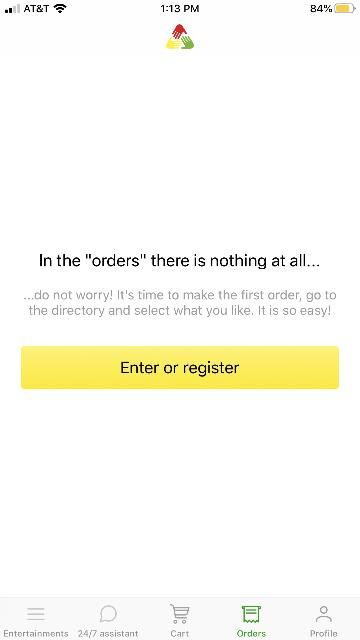Bottom_Navigation: (0, 598, 360, 640)
Icon: (170, 604, 190, 624), (241, 606, 260, 622), (316, 606, 332, 622), (100, 606, 116, 622), (28, 608, 44, 620)
Image: (166, 25, 194, 49)
Text: (24, 289, 336, 317), (40, 254, 318, 270), (122, 362, 238, 376), (78, 630, 138, 638), (4, 630, 68, 636), (237, 630, 265, 636), (311, 630, 337, 636), (171, 630, 189, 636)
TextButton: (21, 346, 339, 388)
TextImageButton: (78, 605, 138, 637), (4, 608, 68, 636), (237, 606, 265, 636), (311, 606, 337, 636), (170, 604, 190, 636)
Toolbar: (0, 15, 360, 56)
UpperTaskBar: (0, 0, 360, 14)
